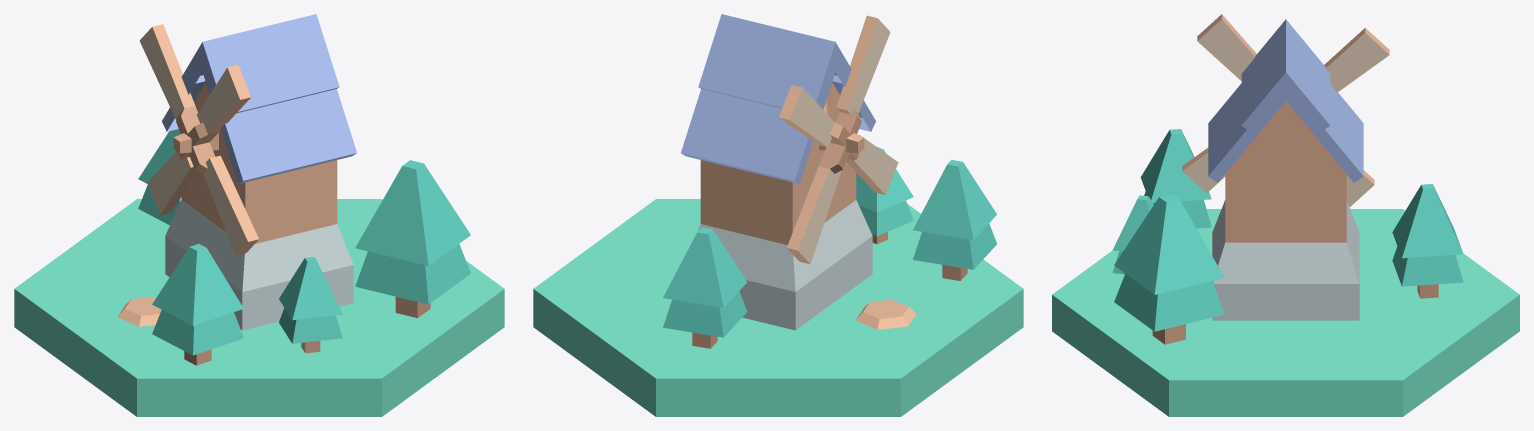
File: WindMill.fbx
3 renders of one model, left to right at view 1: azimuth 30°, elevation 25°; view 2: azimuth 150°, elevation 25°; view 3: azimuth 270°, elevation 25°, orthographic. The views are drawn at different scales.
Parts seen in each view (by area): view 1: building_mill; view 2: building_mill; view 3: building_mill.
Boxes of the visible parts, x1,y1,x2,y2 form: building_mill: (14,14,504,416); building_mill: (533,14,1023,416); building_mill: (1052,14,1519,416).
Size of the model in its own units: 100 by 78.11 by 115.
